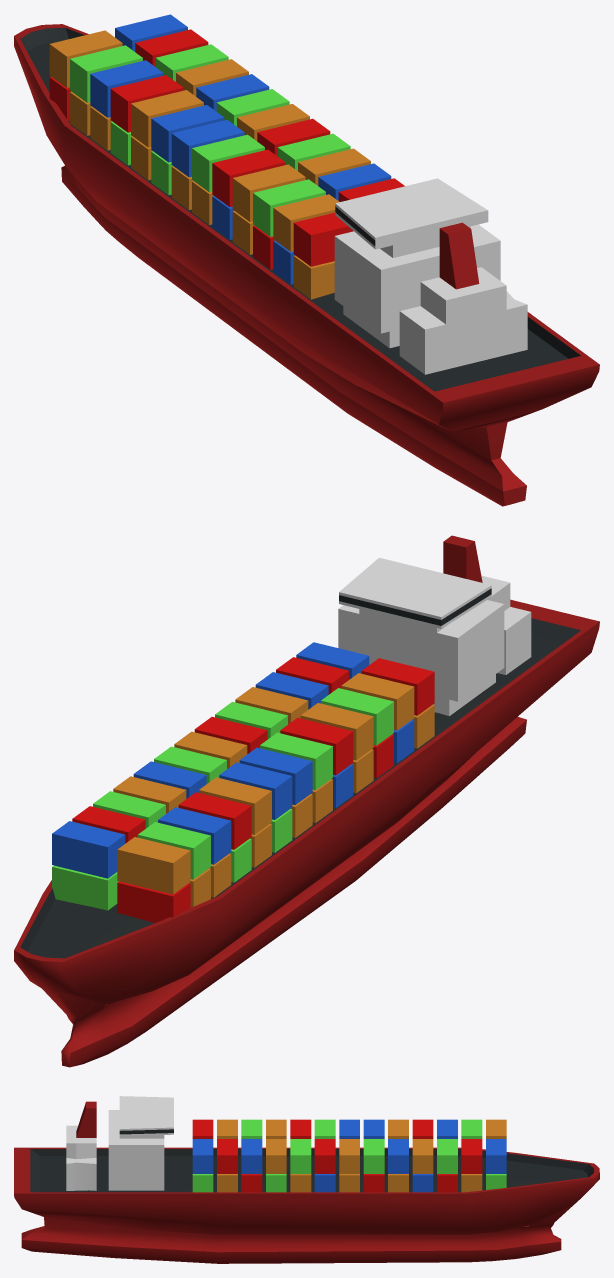
Rendered from Tanker.FBX.
The picture shows the model from 3 angles, top to bottom: view 1: azimuth 30°, elevation 25°; view 2: azimuth 150°, elevation 25°; view 3: azimuth 270°, elevation 25°; orthographic projection. The views are drawn at different scales.
Visible parts, largest first — view 1: Tanker; view 2: Tanker; view 3: Tanker.
Boxes of the visible parts, left/top/right/bottom form: Tanker: left=14, top=14, right=599, bottom=506; Tanker: left=14, top=535, right=599, bottom=1067; Tanker: left=14, top=1096, right=599, bottom=1263.
Bounding box in the file's own units: 30.48 × 48.63 × 164.
